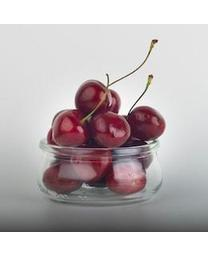cherry: (74, 79, 120, 116), (90, 112, 131, 149), (52, 109, 89, 147), (127, 105, 165, 141)
